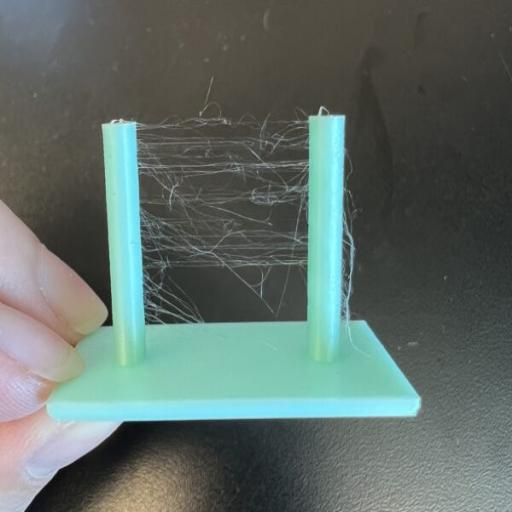stringing: (138, 115, 310, 328)
